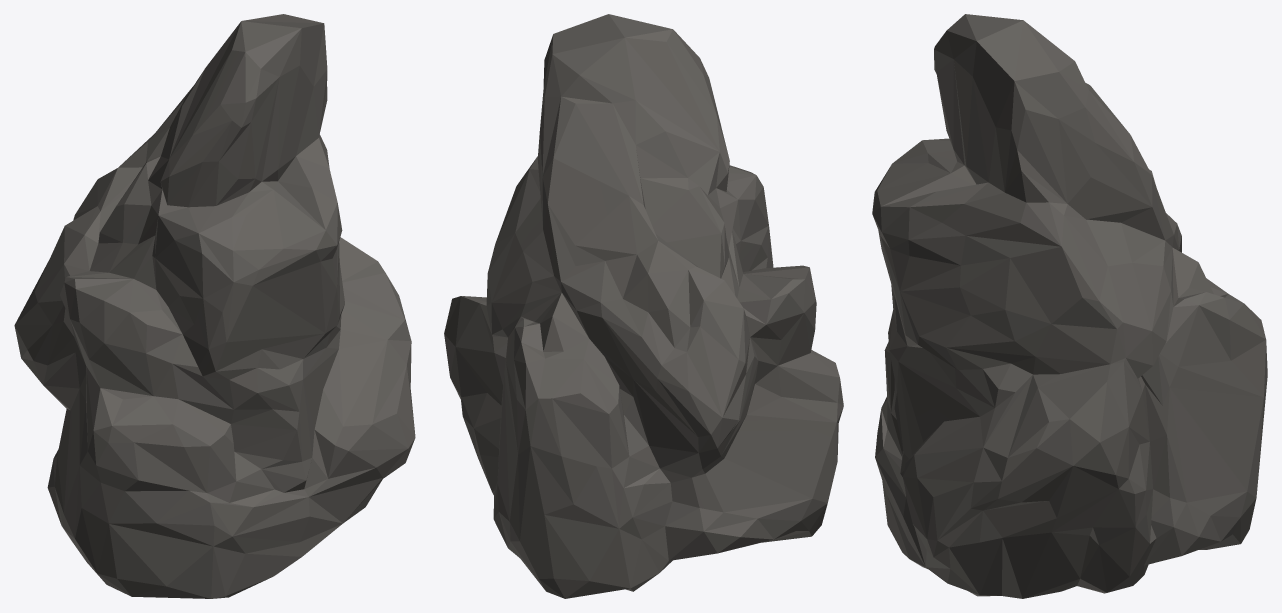
Rendered from env_cliff3.gltf.
3 views of the same model, side by side, from view 1: azimuth 30°, elevation 25°; view 2: azimuth 150°, elevation 25°; view 3: azimuth 270°, elevation 25° (orthographic). The views are drawn at different scales.
Visible parts, largest first — view 1: env_cliff3; view 2: env_cliff3; view 3: env_cliff3.
Boxes of the visible parts, x1=… form: env_cliff3: x1=14, y1=14, x2=415, y2=598; env_cliff3: x1=444, y1=14, x2=843, y2=598; env_cliff3: x1=872, y1=14, x2=1267, y2=598.
Bounding box in the file's own units: 9.94 × 13.78 × 8.95.
Materials: 1 (1 with a texture image).
